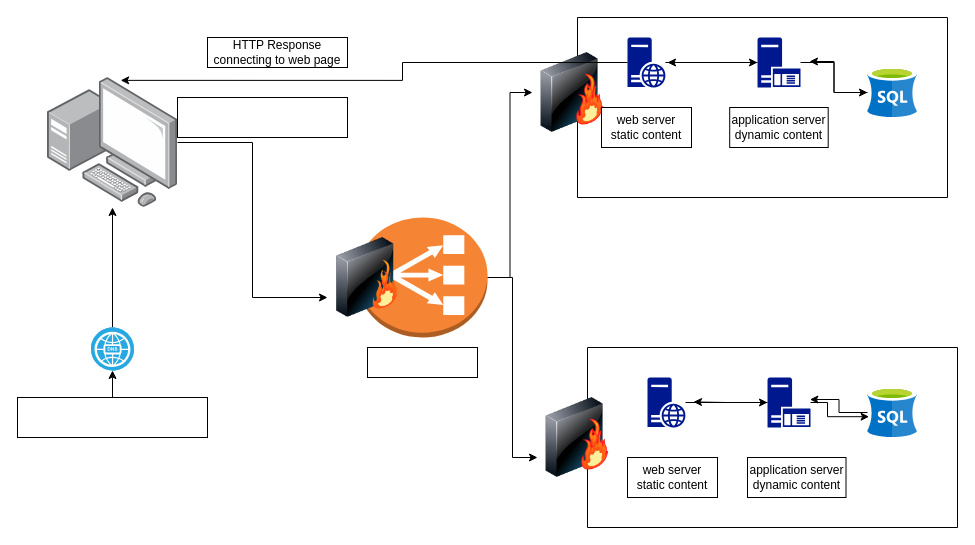
The diagram is 975 pixels wide and 545 high, and some of its shapes have lost their labels. The centre of each missing label's shape, as x and y in pixels:
HTTP Request to connect to web page: the point at 262,117
Load Balancer: the point at 422,362
www.google.com: the point at 112,417
